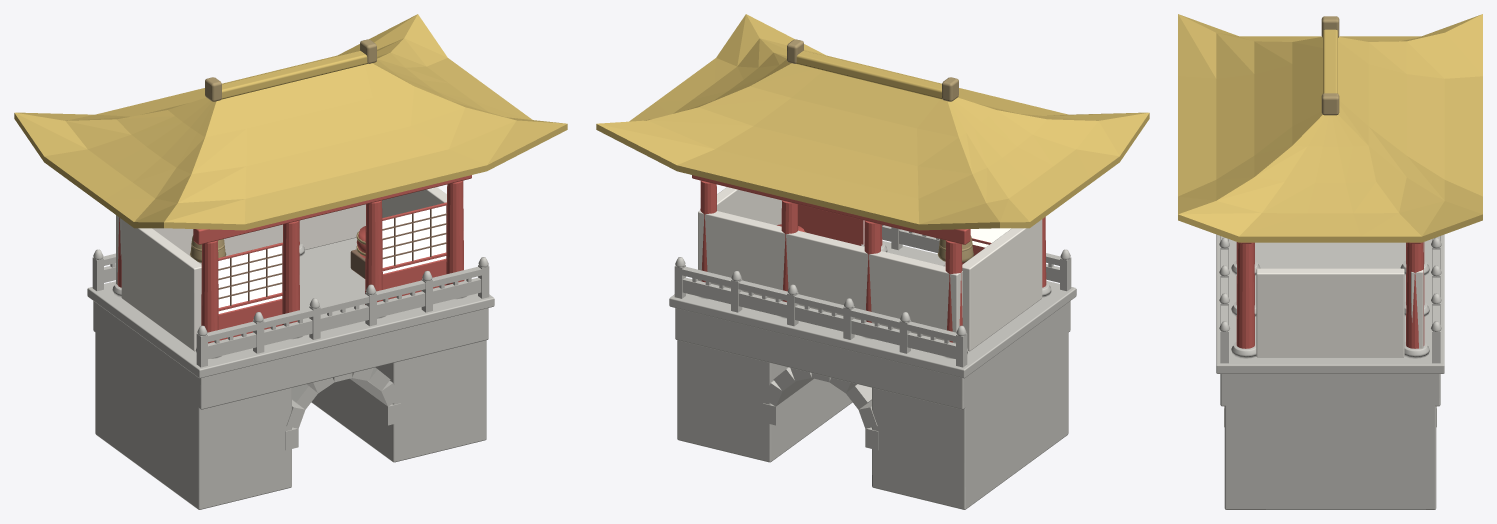
Rendered from gate-tower.glb.
3 views of the same model, side by side, from view 1: azimuth 30°, elevation 25°; view 2: azimuth 150°, elevation 25°; view 3: azimuth 270°, elevation 25° (orthographic).
Visible parts, largest first — view 1: gate-tower; view 2: gate-tower; view 3: gate-tower.
Part boxes in pixels (bbox=[...]): gate-tower: bbox=[14, 14, 567, 509]; gate-tower: bbox=[596, 14, 1149, 509]; gate-tower: bbox=[1178, 14, 1482, 509].
Bounding box in the file's own units: 11.2 × 9.98 × 7.2.
